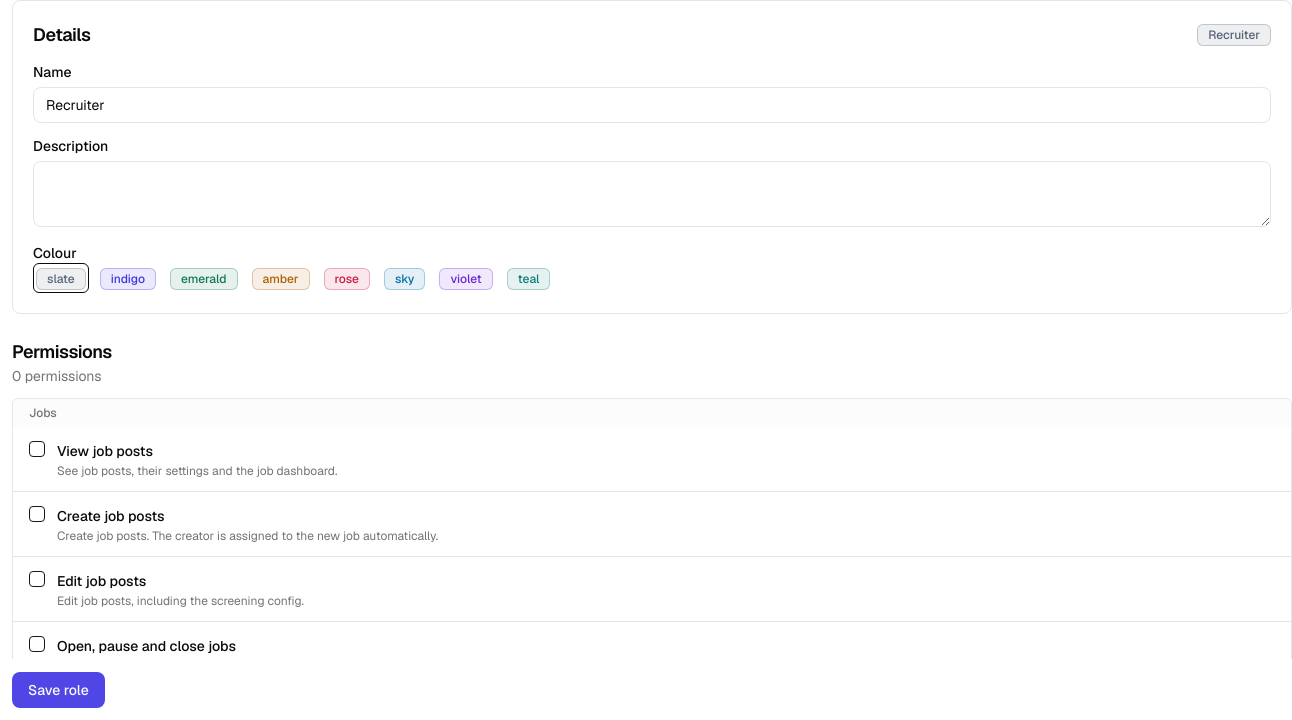
it: RoleEditor › shows a refused save next to the Save button and stays on the page
The width and height of the screenshot is (1292, 720).
Click the button "Save role" at (58,690), box [12,672,105,708]
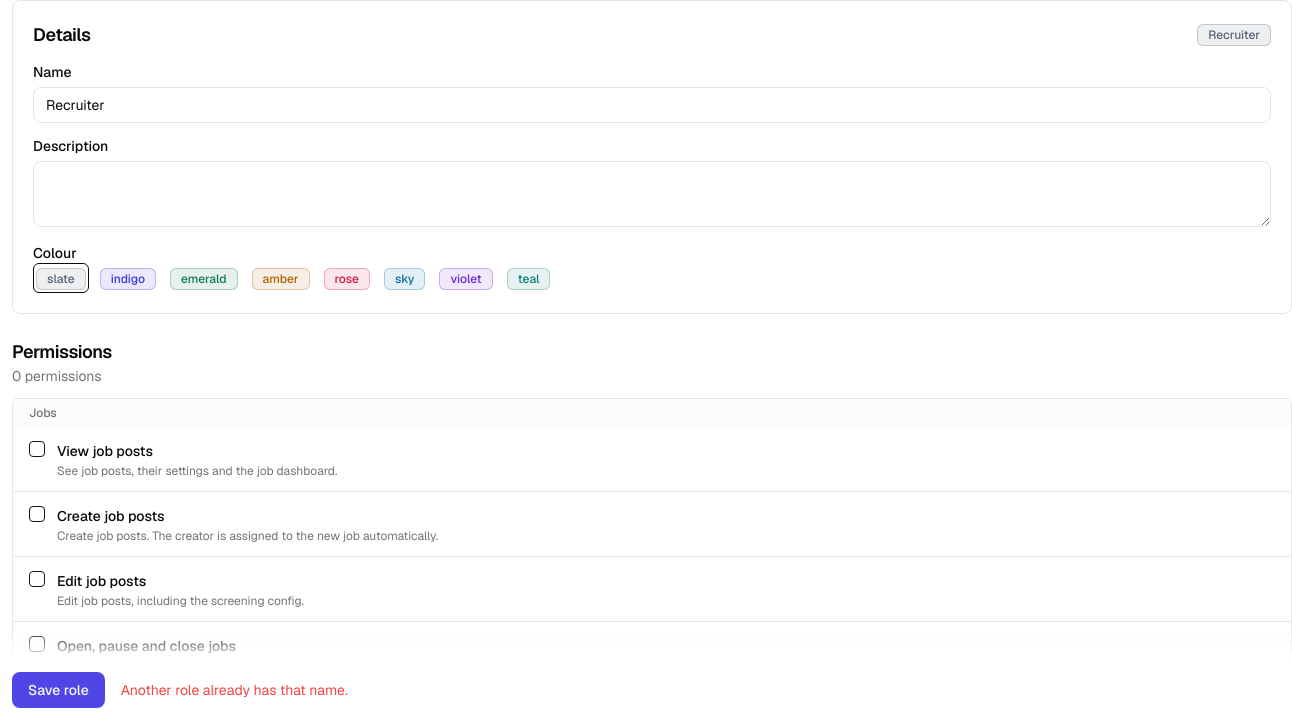
Now the message reads "Another role already has that name.", box [121,681,348,699]
